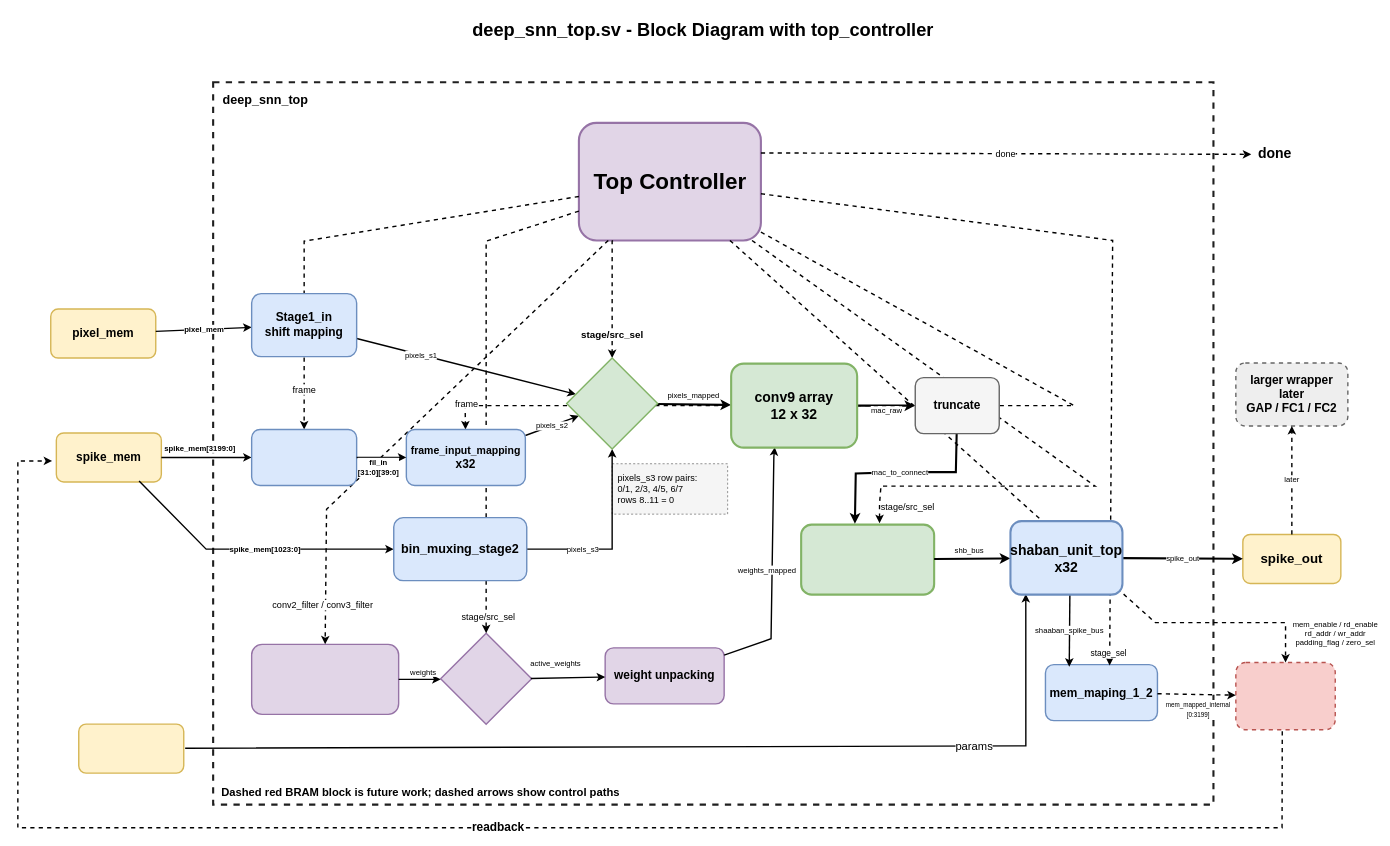
The diagram is 1390 pixels wide and 846 high, and some of its shapes have lost their labels. The shapes that lost their labels are listed below. From the top down, each one's centre as x and y in pixels, then its label:
At (612,403): "pixel MUX".
At (304,457): "mem_mapping".
At (867,559): "adder_tree_ shaaban_connect".
At (325,679): "CONV1_W_MAP_OPT CONV2_W_MAP_OPT CONV3_W_MAP_OPT".
At (486,678): "weight MUX src_sel".
At (1285,696): "spike BRAM TODO ctrl reset/enables".
At (131,748): "bias / BN params".
